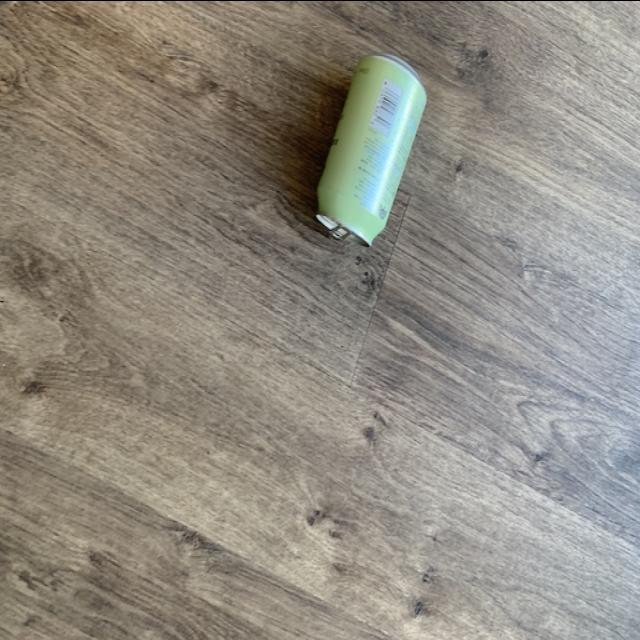litter: (312, 48, 432, 262)
